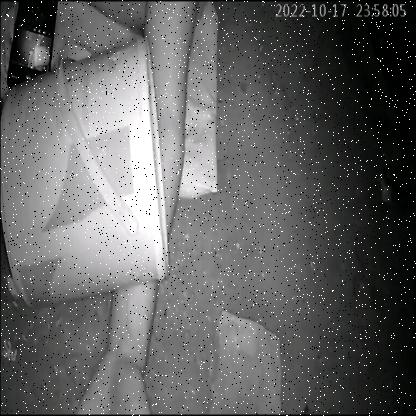hand: (63, 298, 171, 416)
